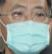with_mask: (2, 1, 52, 54)
